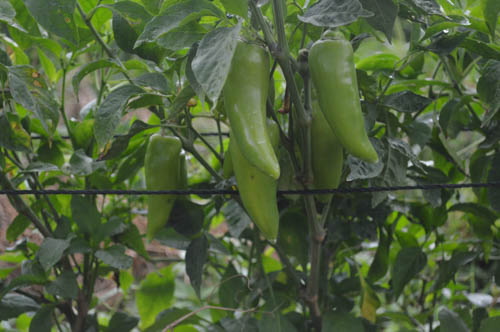ChiliPepper: (314, 37, 376, 161), (227, 46, 278, 173), (232, 119, 283, 233), (298, 88, 343, 198), (142, 135, 182, 232)
